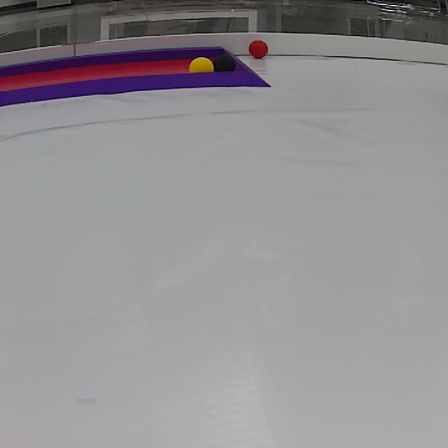black: (213, 55, 238, 74)
red: (248, 40, 268, 58)
red_aim: (0, 44, 277, 108)
yellow: (191, 56, 215, 75)
